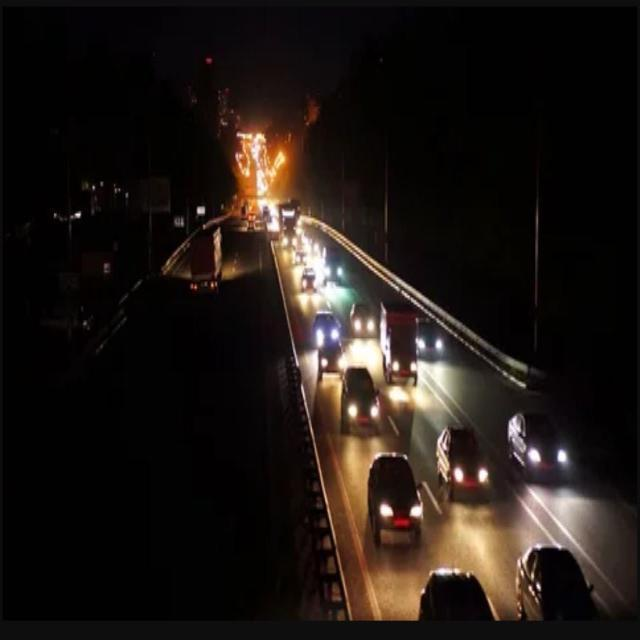headlights: (516, 438, 573, 474), (374, 498, 427, 528), (442, 465, 493, 489), (338, 402, 386, 427), (411, 331, 453, 354), (388, 359, 420, 378), (348, 316, 378, 334)
